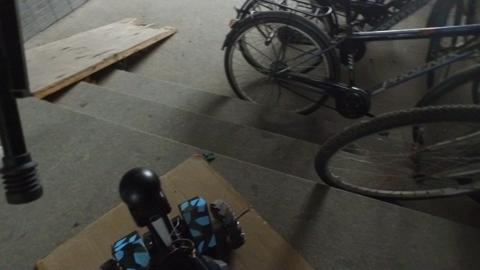bike: (230, 1, 476, 113)
chariot: (94, 167, 245, 270)
